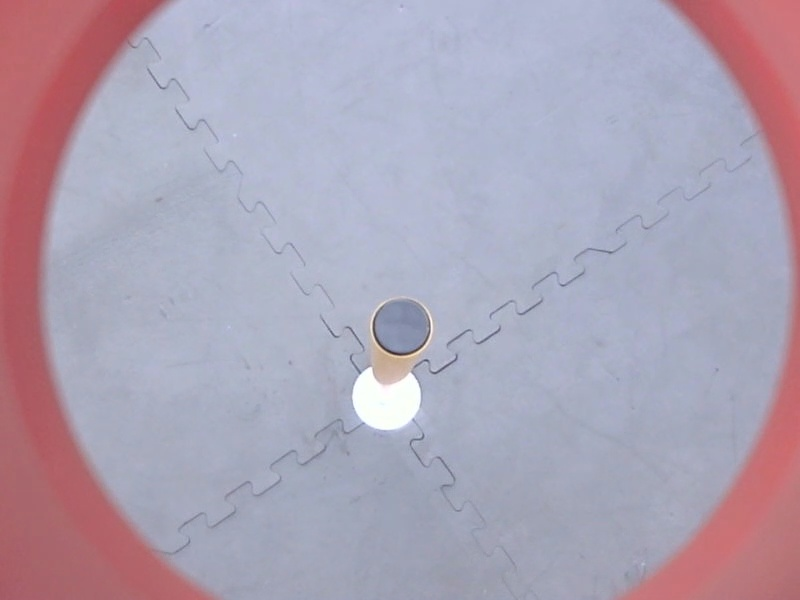tip: (368, 295, 437, 360)
